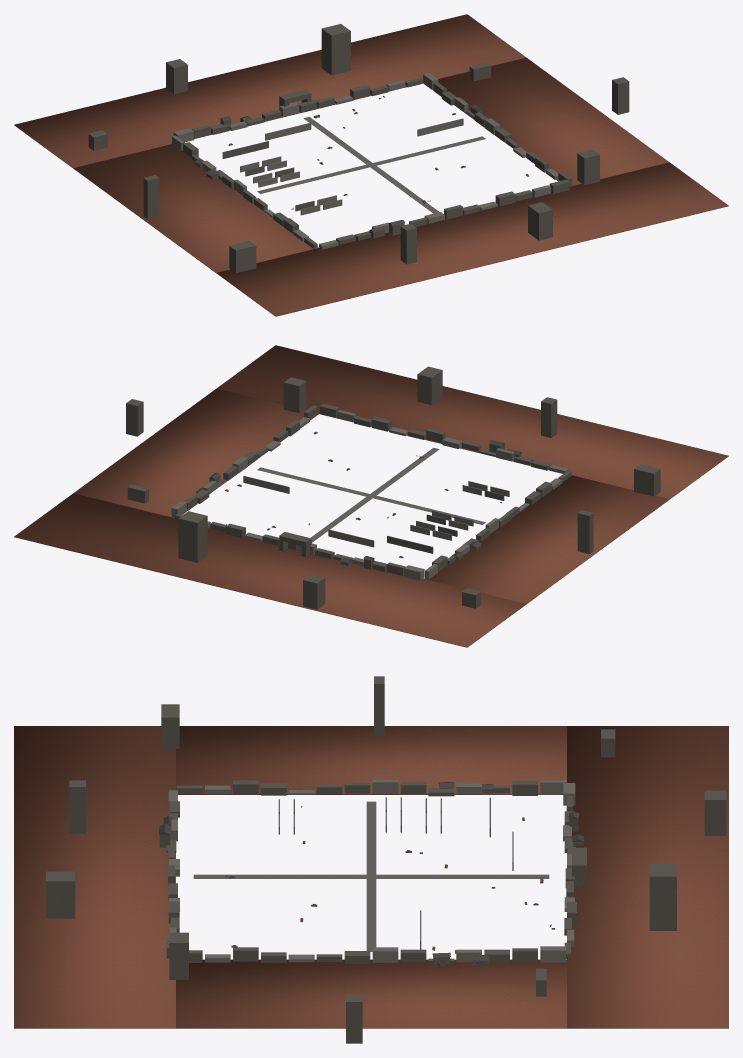
File: haieki-lod2.glb
3 views of the same model, one above another, from view 1: azimuth 30°, elevation 25°; view 2: azimuth 150°, elevation 25°; view 3: azimuth 270°, elevation 25° (orthographic). The views are drawn at different scales.
Visible parts, largest first — view 1: HB_haieki_LOD2_terrain, HB_haieki_LOD2_wall_alt, HB_haieki_LOD2_wall, HB_haieki_LOD2_road; view 2: HB_haieki_LOD2_terrain, HB_haieki_LOD2_wall_alt, HB_haieki_LOD2_wall, HB_haieki_LOD2_road; view 3: HB_haieki_LOD2_terrain, HB_haieki_LOD2_wall_alt, HB_haieki_LOD2_wall, HB_haieki_LOD2_road, HB_haieki_LOD2_trim.
Boxes of the visible parts, x1=… form: HB_haieki_LOD2_terrain: x1=14, y1=14, x2=728, y2=316; HB_haieki_LOD2_wall_alt: x1=88, y1=24, x2=629, y2=273; HB_haieki_LOD2_wall: x1=172, y1=73, x2=558, y2=249; HB_haieki_LOD2_road: x1=257, y1=116, x2=485, y2=213; HB_haieki_LOD2_terrain: x1=14, y1=345, x2=728, y2=647; HB_haieki_LOD2_wall_alt: x1=126, y1=366, x2=660, y2=609; HB_haieki_LOD2_wall: x1=171, y1=410, x2=568, y2=580; HB_haieki_LOD2_road: x1=257, y1=447, x2=485, y2=542; HB_haieki_LOD2_terrain: x1=14, y1=726, x2=728, y2=1028; HB_haieki_LOD2_wall_alt: x1=46, y1=676, x2=726, y2=1043; HB_haieki_LOD2_wall: x1=168, y1=779, x2=575, y2=962; HB_haieki_LOD2_road: x1=193, y1=801, x2=549, y2=951; HB_haieki_LOD2_trim: x1=159, y1=782, x2=584, y2=965.
Size of the model in its own units: 602 by 49.15 by 574.
Materials: 8 (7 with a texture image).
